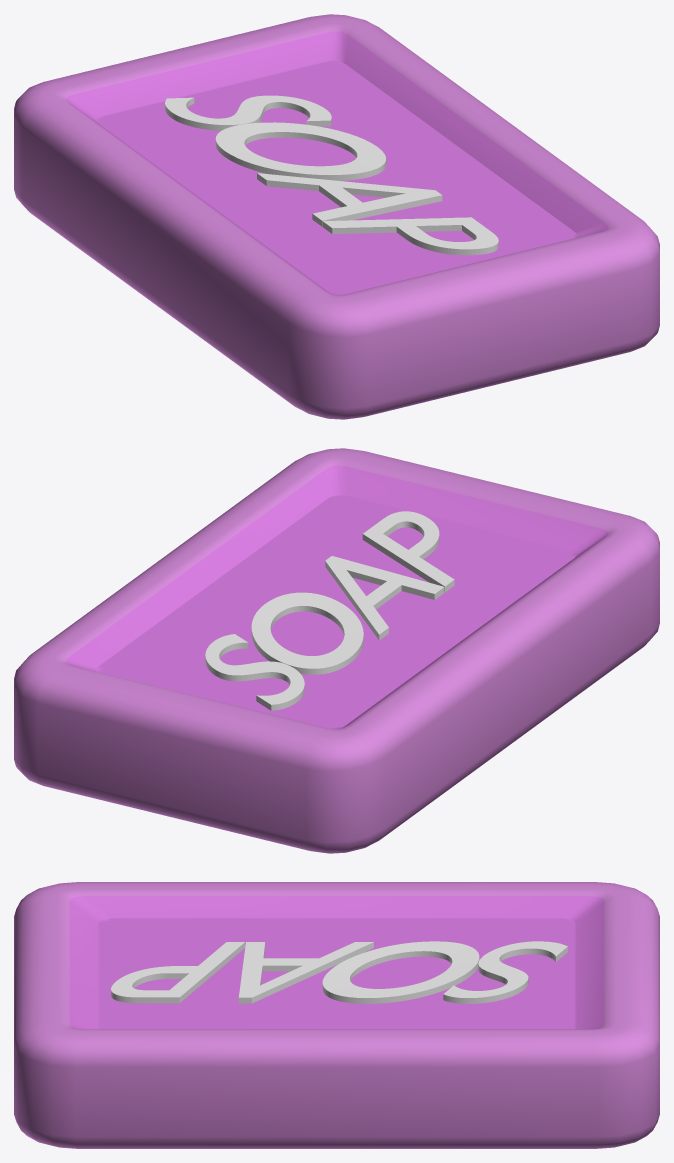
File: Soap.fbx
The picture shows the model from 3 angles, top to bottom: view 1: azimuth 30°, elevation 25°; view 2: azimuth 150°, elevation 25°; view 3: azimuth 270°, elevation 25°; orthographic projection. The views are drawn at different scales.
Visible parts, largest first — view 1: SoapBar; view 2: SoapBar; view 3: SoapBar.
Part boxes in pixels (left/top/right/bottom): SoapBar: left=14, top=14, right=659, bottom=419; SoapBar: left=14, top=448, right=659, bottom=853; SoapBar: left=14, top=882, right=659, bottom=1148.
Size of the model in its own units: 0.9194 by 1.45 by 0.2727.
